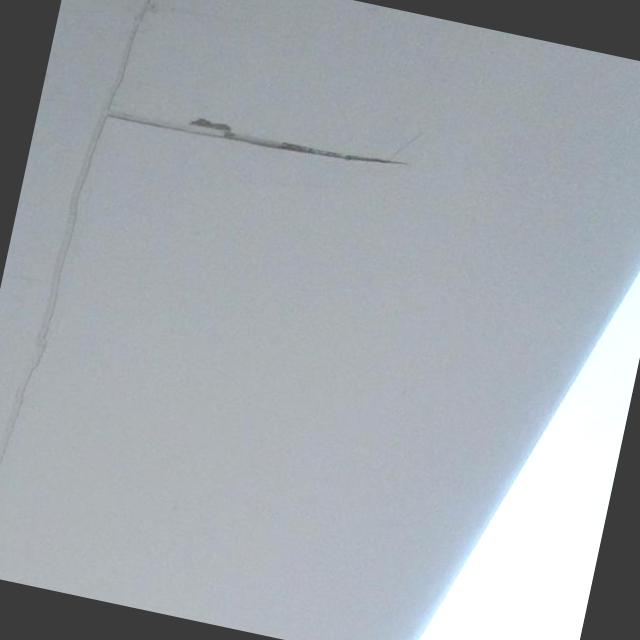crack: (106, 91, 416, 186)
